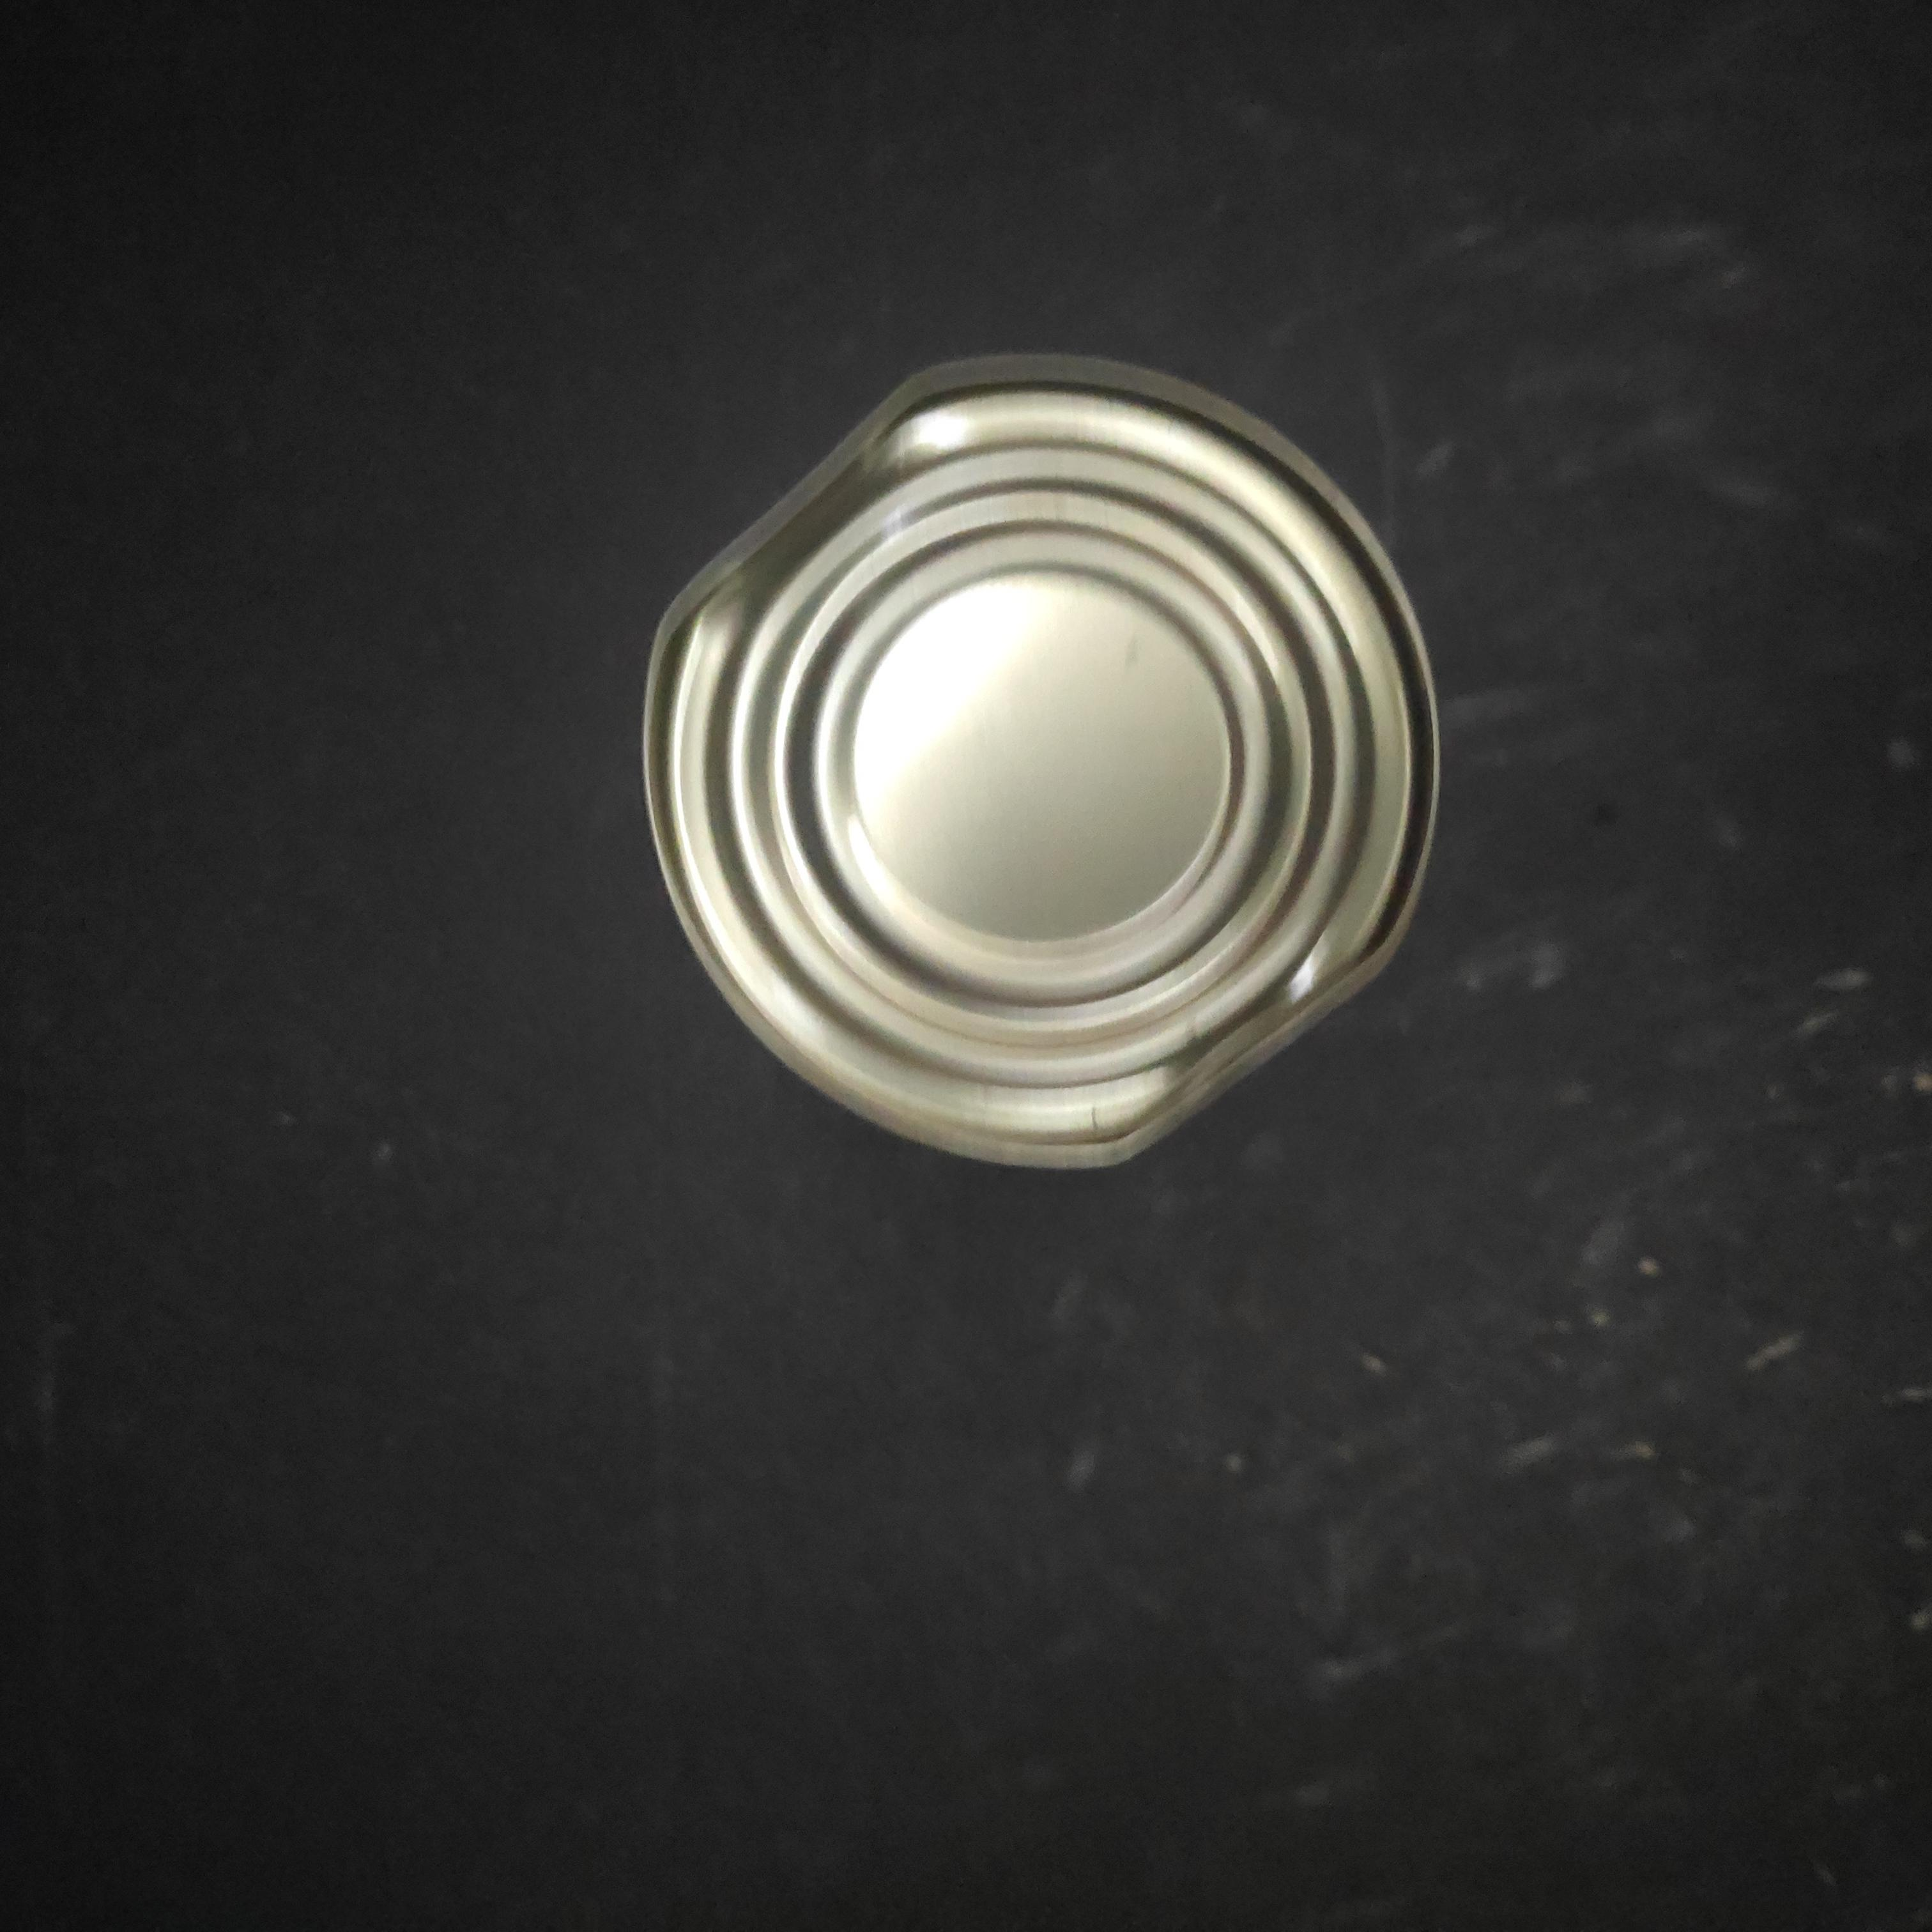Minor Defect: (483, 745, 1307, 1598)
